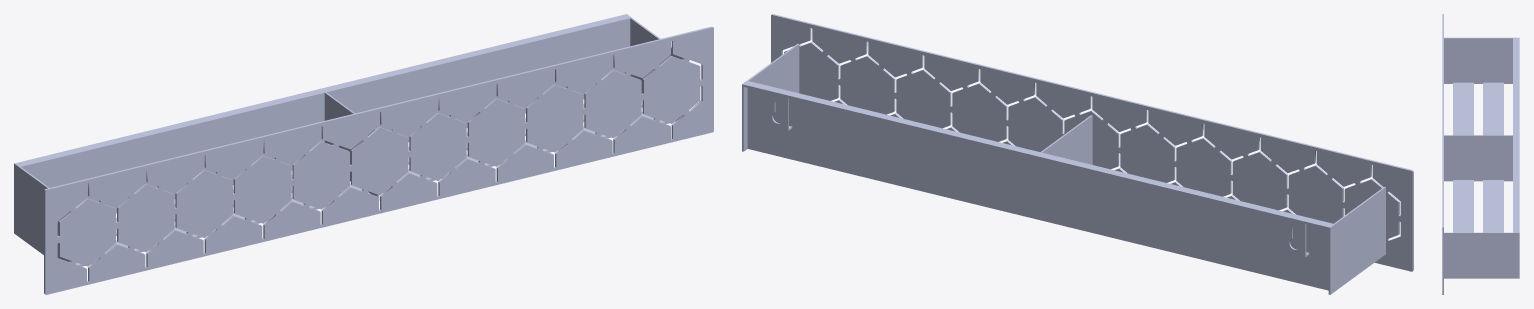
Rendered from bee-mono.6adab1ebb9.glb.
The picture shows the model from 3 angles, left to right: view 1: azimuth 30°, elevation 25°; view 2: azimuth 150°, elevation 25°; view 3: azimuth 270°, elevation 25°; orthographic projection. The views are drawn at different scales.
Visible parts, largest first — view 1: NAUO1; view 2: NAUO1; view 3: NAUO1.
Boxes of the visible parts, box(x1,y1,x2,y2) form: NAUO1: box(14, 14, 713, 294); NAUO1: box(742, 14, 1413, 294); NAUO1: box(1442, 14, 1519, 294).
Bounding box in the file's own units: 0.6 × 0.09 × 0.092.
